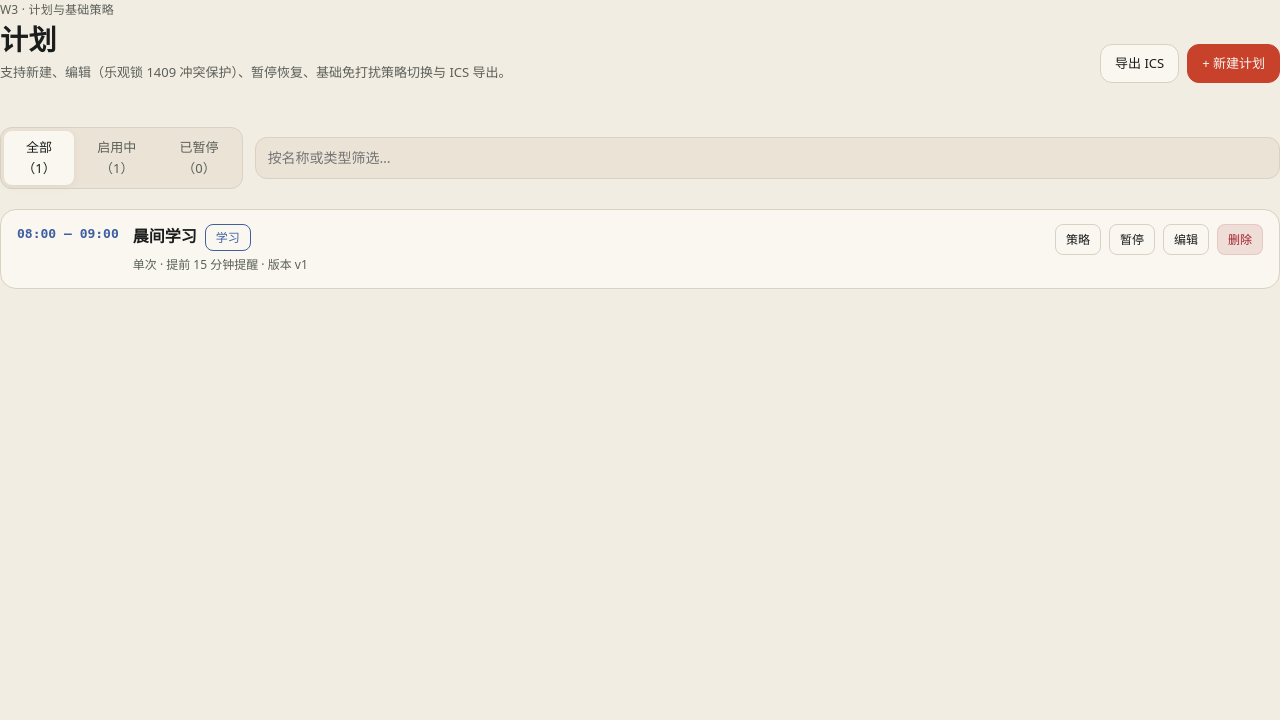
Core views: XSS neutralization, 1409 conflict reload/merge, and B5 trust copy › preserves latest mobile blacklistApps when retrying strategy after 1409 conflict on PlansPage (B6)
Later steps or results of the test are not shown.
Click the button "策略" at (1078, 239), box [1055,224,1101,255]
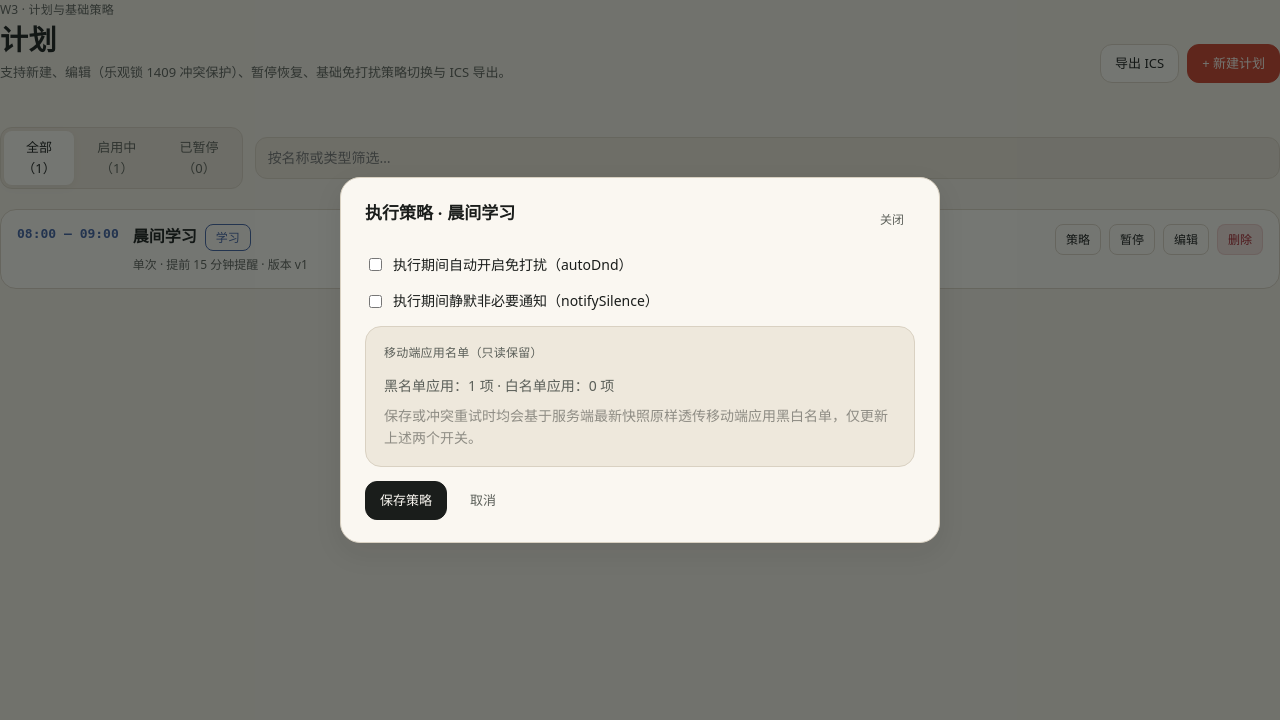
Click the checkbox labelled "执行期间自动开启免打扰（autoDnd）" at (376, 265), box [369,258,382,271]
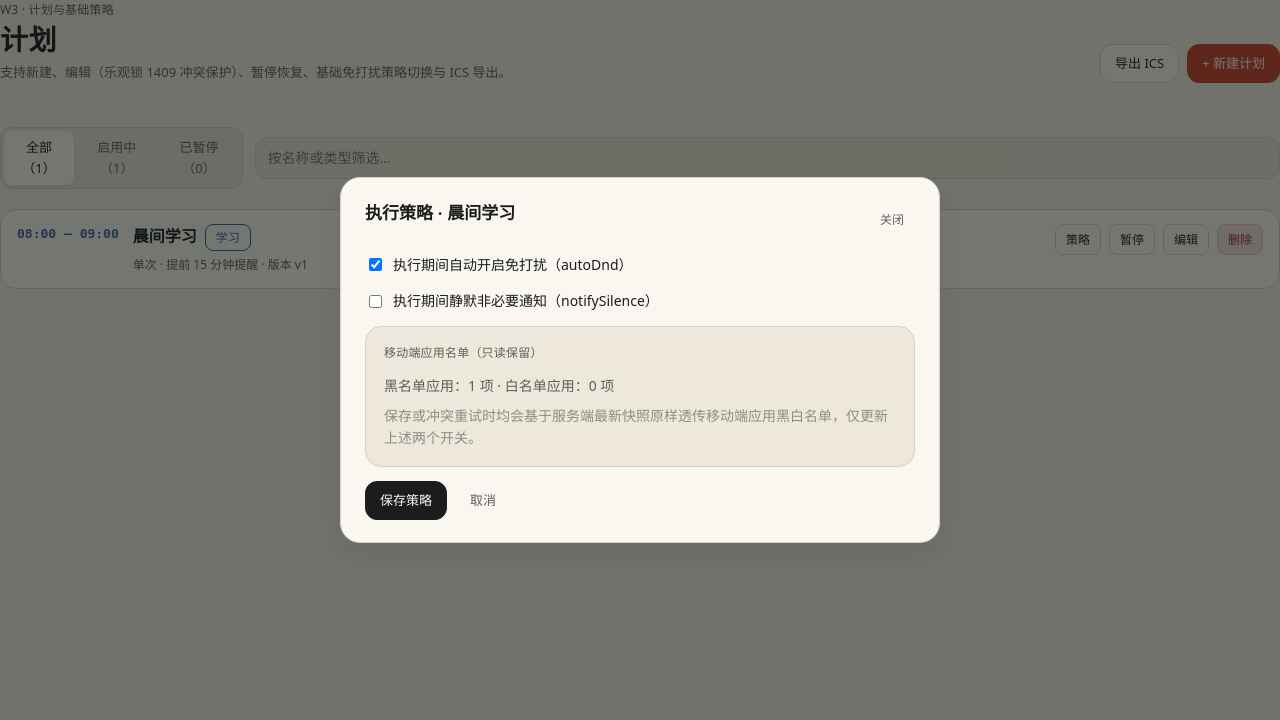
Click the button "保存策略" at (406, 500), box [365,481,447,520]
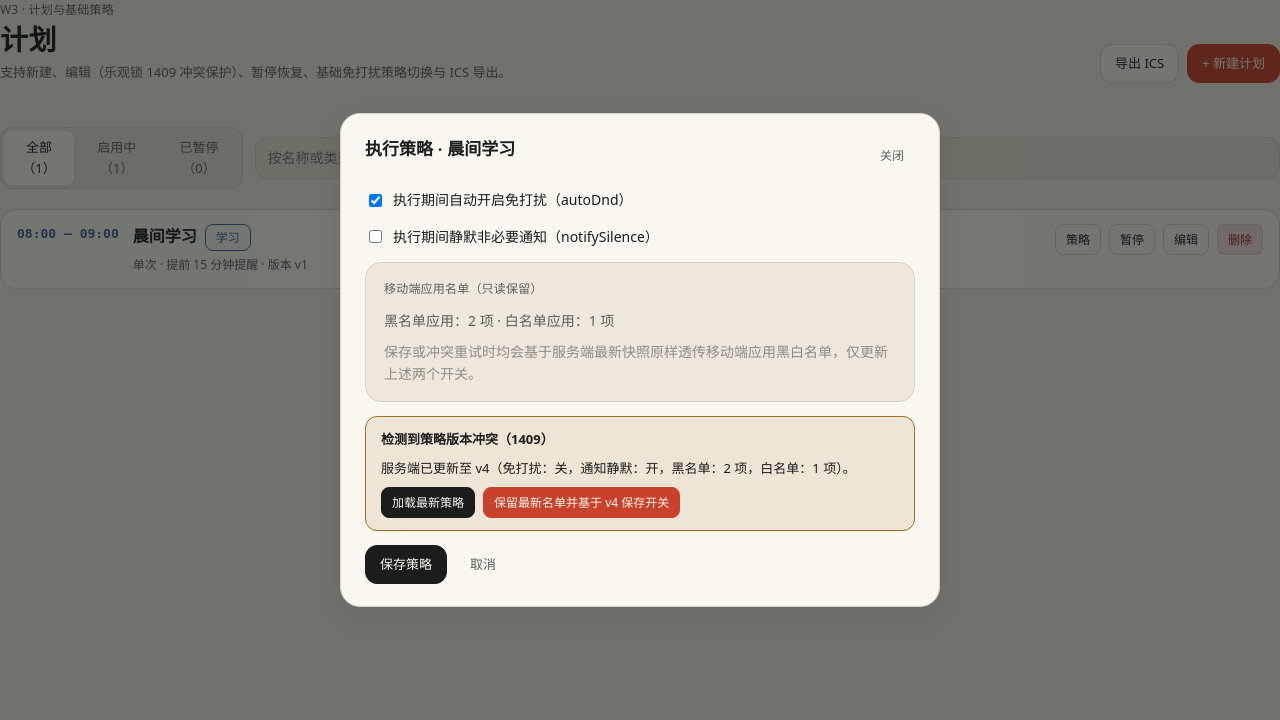
Expected: the text "检测到策略版本冲突（1409）" is shown, [381,430,554,448]
Expected: the text "黑名单：2 项" is shown, [381,458,856,479]
